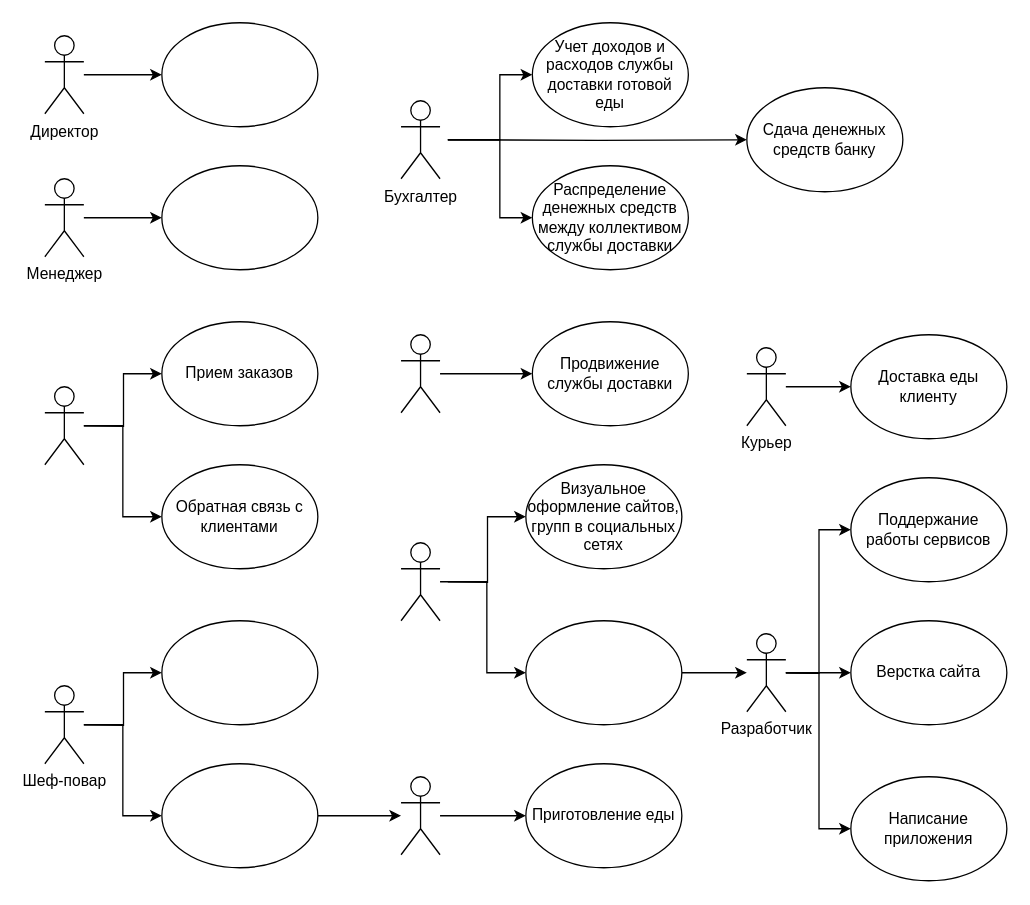
The diagram is 1030 pixels wide and 905 high, and some of its shapes have lost their labels. Each missing label, with the centre of its shape:
"Дизайнер" belongs at point (420, 581).
"Маркетолог" belongs at point (420, 373).
"Оператор" belongs at point (64, 425).
"Повара" belongs at point (420, 815).
"Подготовка шаблона сайта и приложения для верстки" belongs at point (603, 672).
"Руководство работой кухни" belongs at point (239, 815).
"Руководство работой службы доставки готовой еды" belongs at point (239, 74).
"Создание меню" belongs at point (239, 672).
"Управление персоналом службы" belongs at point (239, 217).
